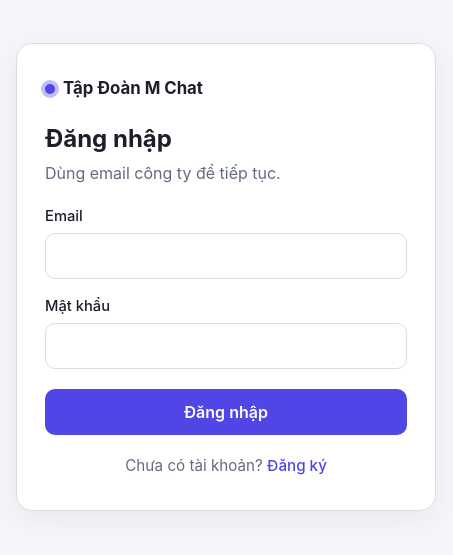
it: đăng nhập / đăng xuất › báo lỗi khi bỏ trống
Click the button "Đăng nhập" at (226, 412), box x1=45 y1=390 x2=407 y2=436
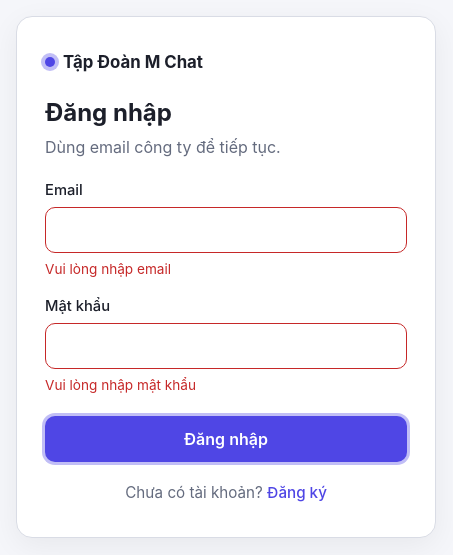
Result: the text "Vui lòng nhập email" is shown at x1=45 y1=261 x2=171 y2=277
Result: the text "Vui lòng nhập mật khẩu" is shown at x1=45 y1=378 x2=196 y2=394
